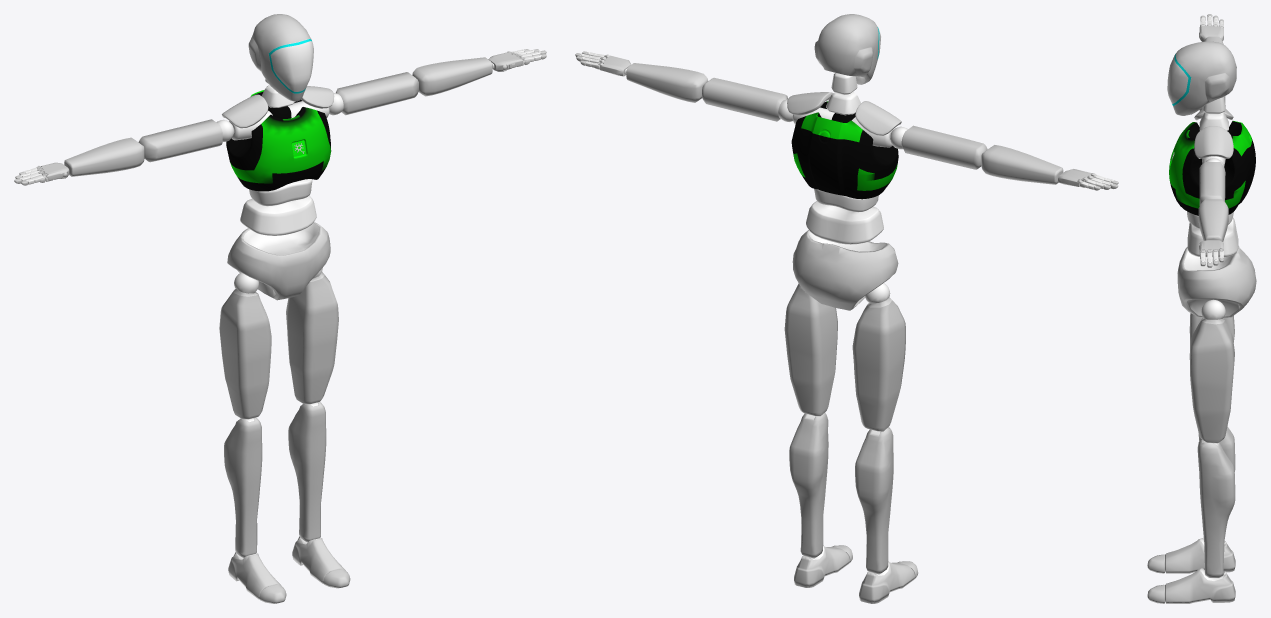
File: PN_Avatar.fbx
The picture shows the model from 3 angles, left to right: view 1: azimuth 30°, elevation 25°; view 2: azimuth 150°, elevation 25°; view 3: azimuth 270°, elevation 25°; orthographic projection. The views are drawn at different scales.
Visible parts, largest first — view 1: SM_Spine (×2), SM_RightUpLeg, SM_LeftUpLeg, SM_Hips, SM_Head, SM_RightLeg, SM_LeftLeg, SM_RightArm, SM_LeftArm, SM_RightForeArm, SM_LeftForeArm, SM_RightShoulder (+4 smaller); view 2: SM_Spine (×2), SM_RightUpLeg, SM_Hips, SM_LeftUpLeg, SM_LeftLeg, SM_RightLeg, SM_Head, SM_RightArm, SM_LeftArm, SM_RightForeArm, SM_LeftForeArm, SM_RightFoot (+4 smaller); view 3: SM_LeftUpLeg, SM_Spine (×2), SM_Head, SM_Hips, SM_LeftLeg, SM_LeftFoot, SM_RightFoot, SM_LeftShoulder, SM_LeftForeArm, SM_LeftArm, SM_Neck, SM_RightLeg (+7 smaller).
Part boxes in pixels (x1,y1,x2,y2): SM_Spine (×2): (226,90,331,235); SM_RightUpLeg: (219,272,271,419); SM_LeftUpLeg: (286,268,338,404); SM_Hips: (227,222,330,300); SM_Head: (248,14,313,101); SM_RightLeg: (224,417,262,558); SM_LeftLeg: (288,402,326,542); SM_RightArm: (138,119,233,162); SM_LeftArm: (329,72,418,115); SM_RightForeArm: (64,137,144,176); SM_LeftForeArm: (412,57,492,96); SM_RightShoulder: (222,94,272,140); SM_Spine (×2): (791,101,898,244); SM_RightUpLeg: (852,283,905,431); SM_Hips: (792,230,898,310); SM_LeftUpLeg: (784,283,837,416); SM_LeftLeg: (789,413,828,558); SM_RightLeg: (855,427,893,574); SM_Head: (814,14,880,84); SM_RightArm: (890,125,987,169); SM_LeftArm: (702,77,792,121); SM_RightForeArm: (981,145,1063,184); SM_LeftForeArm: (626,63,708,102); SM_RightFoot: (859,561,915,603); SM_LeftUpLeg: (1189,299,1234,443); SM_Spine (×2): (1169,121,1255,257); SM_Head: (1167,41,1236,115); SM_Hips: (1177,246,1256,317); SM_LeftLeg: (1197,440,1235,577); SM_LeftFoot: (1165,568,1235,603); SM_RightFoot: (1165,538,1235,573); SM_LeftShoulder: (1194,126,1233,166); SM_LeftForeArm: (1198,199,1228,241); SM_LeftArm: (1199,158,1225,205); SM_Neck: (1199,112,1228,130); SM_RightLeg: (1198,426,1235,471).
Bounding box in the file's own units: 183 × 183 × 33.51.
